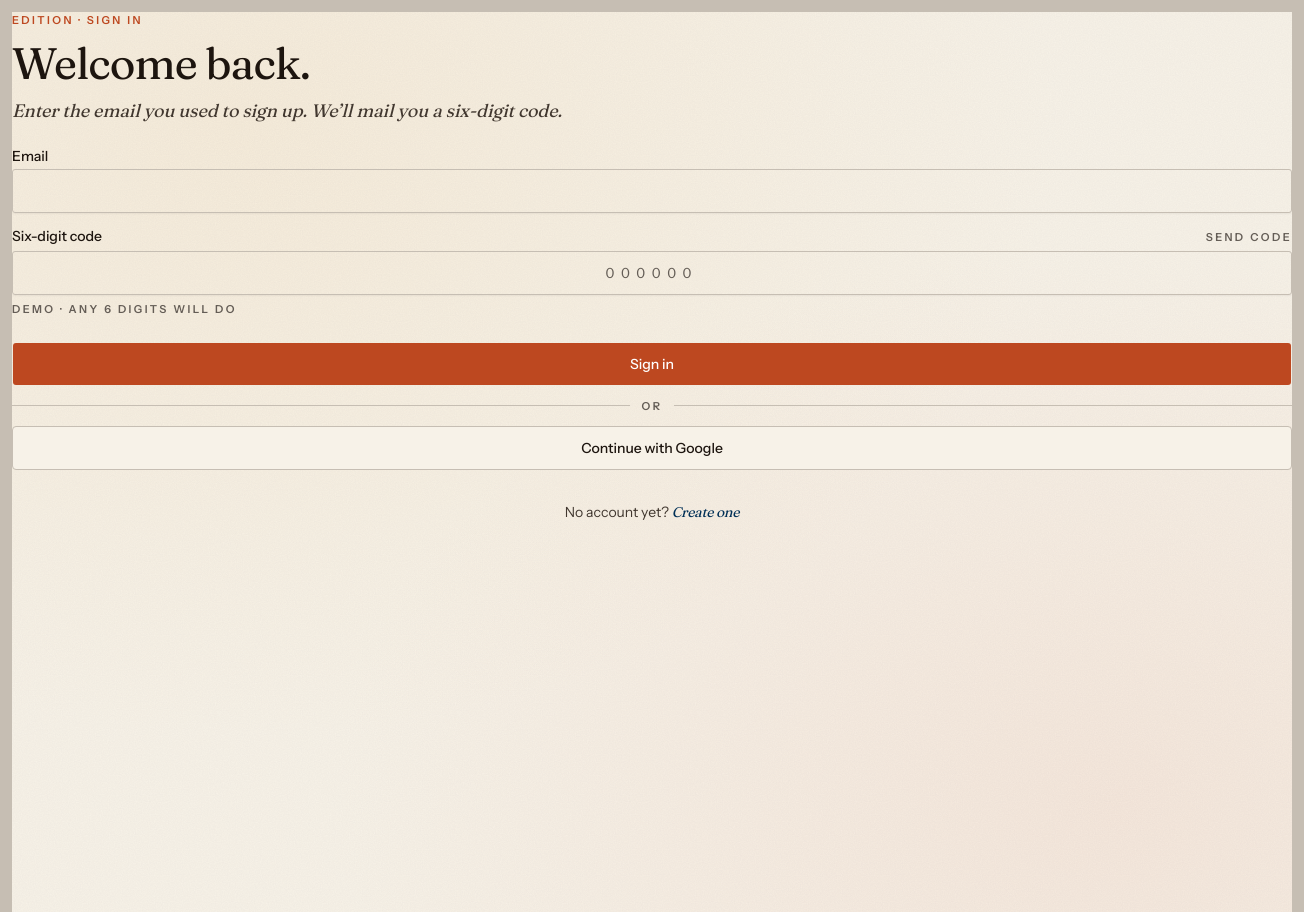
Scenario: AuthForm — Send code / Resend code toggle › click with empty email shows 'Enter your email first.' in auth-error
Click the button "Send code". click: [1249, 237]
box: [1206,228,1292,245]
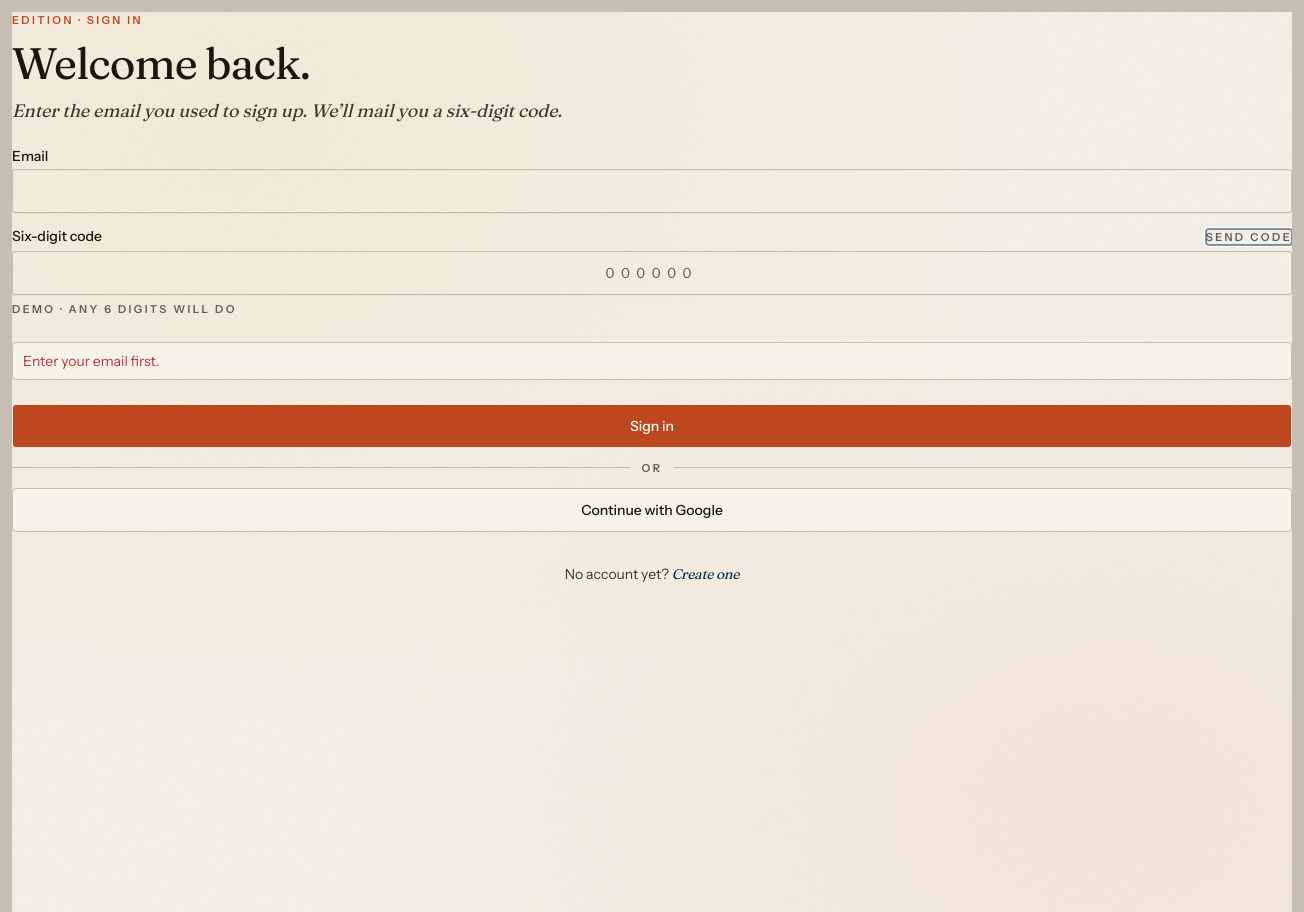
Expected: the message "Enter your email first." is shown, [12,342,1292,380]
